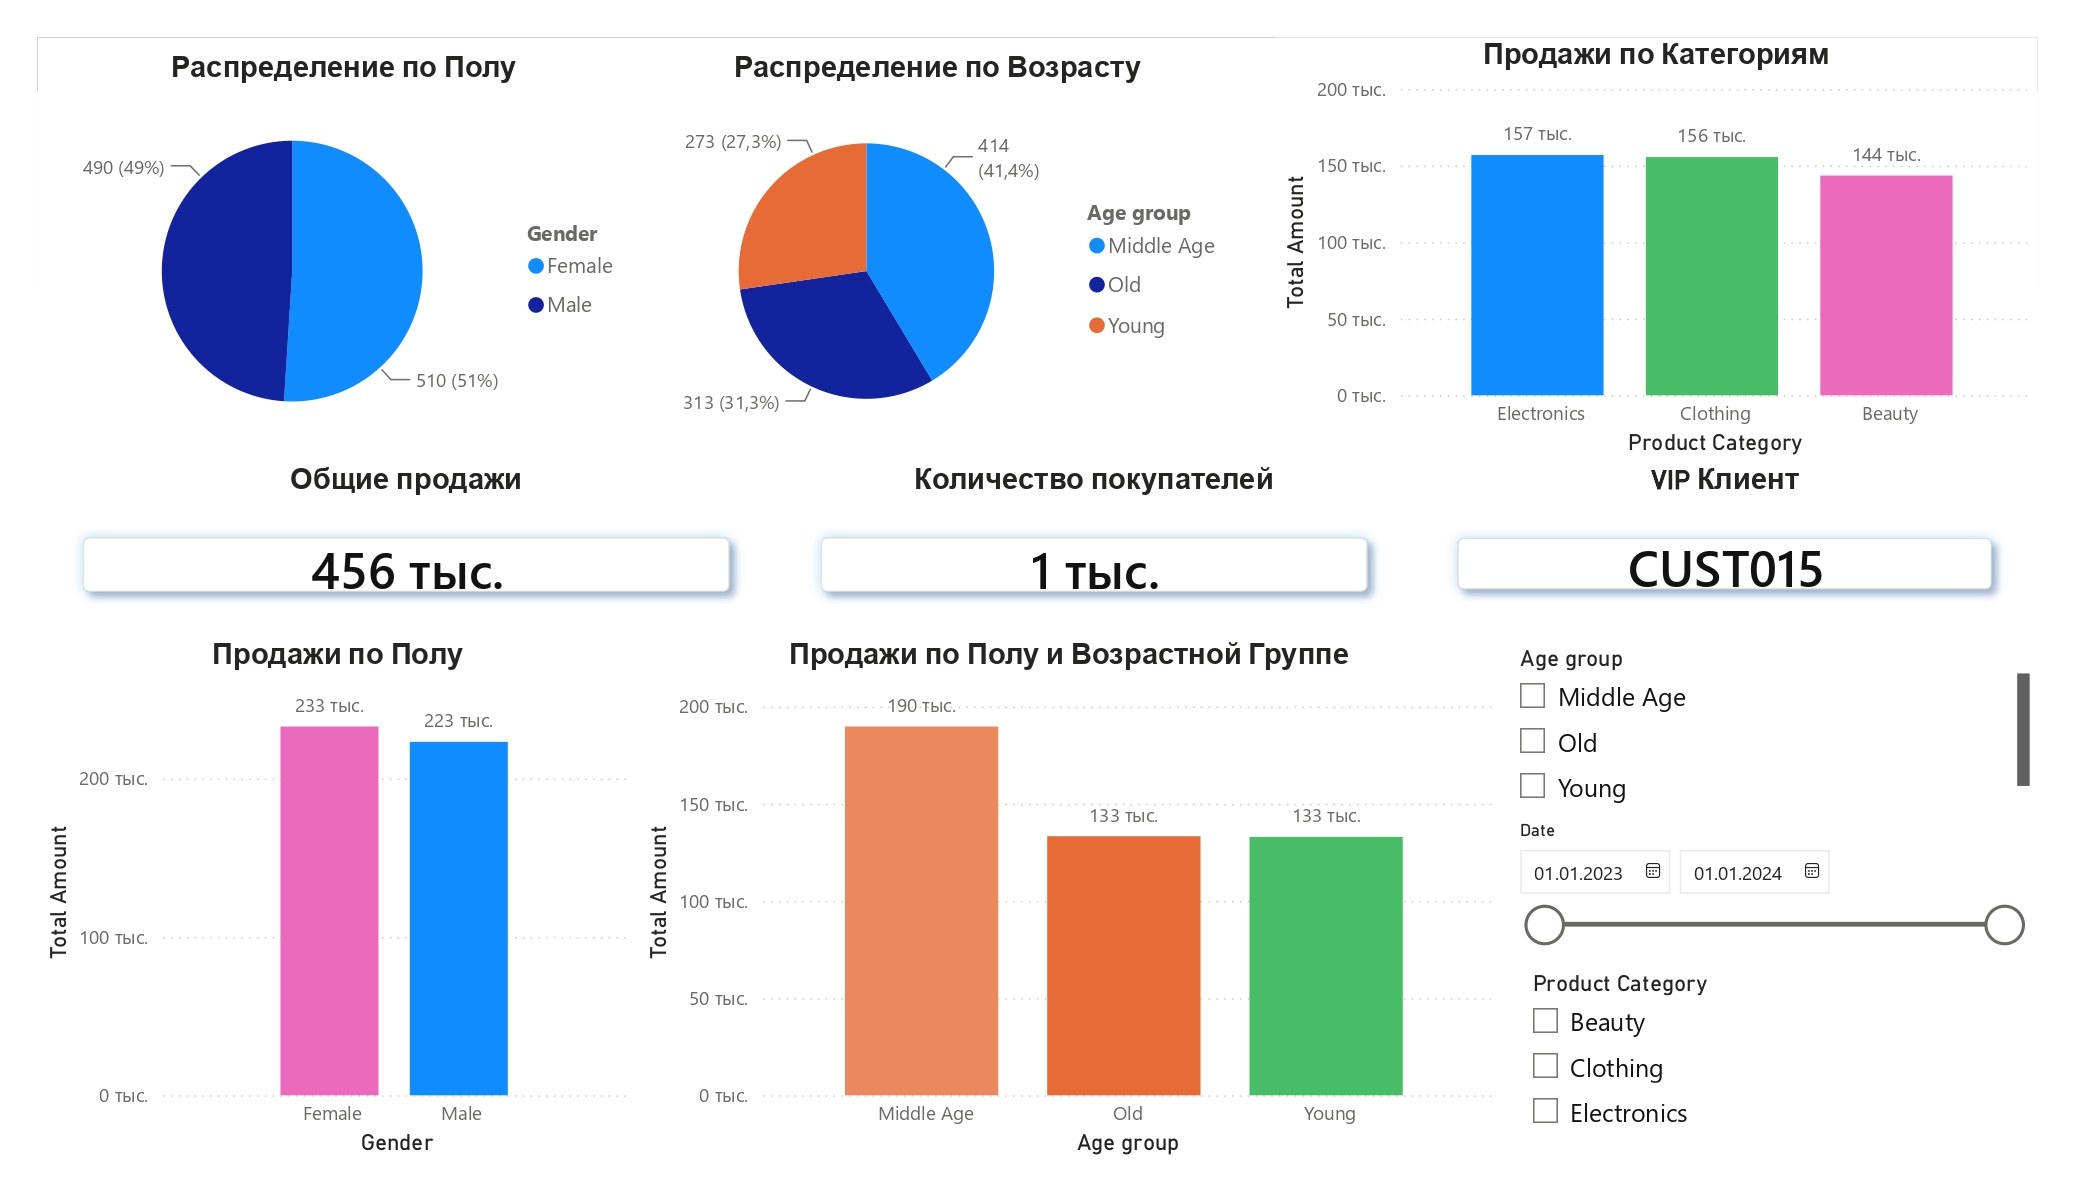

What the dashboard file says about the page in this screenshot:
{"tool":"powerbi","page":{"name":"EDA","canvas":[1280,720],"ordinal":0},"visuals":[{"type":"pieChart","title":"Распределение по Полу","fields":{"Category":["retail_sales_dataset.Gender"],"Y":["CountNonNull(retail_sales_dataset.Gender)"]},"box":[8,8,376,264],"z":0},{"type":"pieChart","title":"Распределение по Возрасту","fields":{"Category":["retail_sales_dataset.Age group"],"Y":["CountNonNull(retail_sales_dataset.Age group)"]},"box":[384,8,384,264],"z":1},{"type":"columnChart","title":"Продажи по Категориям","fields":{"Category":["retail_sales_dataset.Product Category"],"Y":["Sum(retail_sales_dataset.Total Amount)"]},"box":[792,0,488,272],"z":2},{"type":"cardVisual","title":"Общие продажи","fields":{"Data":["Sum(retail_sales_dataset.Total Amount)"]},"box":[0,272,472,112],"z":3},{"type":"cardVisual","title":"Количество покупателей","fields":{"Data":["Count(retail_sales_dataset.Customer ID)"]},"box":[472,272,408,112],"z":4},{"type":"columnChart","title":"Продажи по Полу","fields":{"Category":["retail_sales_dataset.Gender"],"Y":["Sum(retail_sales_dataset.Total Amount)"]},"box":[0,384,384,336],"z":7},{"type":"clusteredColumnChart","title":"Продажи по Полу и Возрастной Группе","fields":{"Category":["retail_sales_dataset.Age group","retail_sales_dataset.Gender"],"Y":["Sum(retail_sales_dataset.Total Amount)"]},"box":[384,384,552,336],"z":8},{"type":"cardVisual","title":"VIP Клиент","fields":{"Data":["Min(retail_sales_dataset.Customer ID)"]},"box":[880,272,400,112],"z":9},{"type":"slicer","fields":{"Values":["retail_sales_dataset.Age group"]},"box":[936,384,344,112],"z":10},{"type":"slicer","fields":{"Values":["retail_sales_dataset.Date"]},"box":[936,496,344,112],"z":11},{"type":"slicer","fields":{"Values":["retail_sales_dataset.Product Category"]},"box":[944,592,336,128],"z":13}]}

Visuals, with their boxes on the page's 1280x720 design canvas (x1, y1, x2, y2). These are canvas units, not pixel positions in the 2075x1200 screenshot, which may show the page scaled, cropped or inside an application window:
"Распределение по Полу" pieChart: region(8, 8, 384, 272)
"Распределение по Возрасту" pieChart: region(384, 8, 768, 272)
"Продажи по Категориям" columnChart: region(792, 0, 1280, 272)
"Общие продажи" cardVisual: region(0, 272, 472, 384)
"Количество покупателей" cardVisual: region(472, 272, 880, 384)
"Продажи по Полу" columnChart: region(0, 384, 384, 720)
"Продажи по Полу и Возрастной Группе" clusteredColumnChart: region(384, 384, 936, 720)
"VIP Клиент" cardVisual: region(880, 272, 1280, 384)
slicer - retail_sales_dataset.Age group: region(936, 384, 1280, 496)
slicer - retail_sales_dataset.Date: region(936, 496, 1280, 608)
slicer - retail_sales_dataset.Product Category: region(944, 592, 1280, 720)
